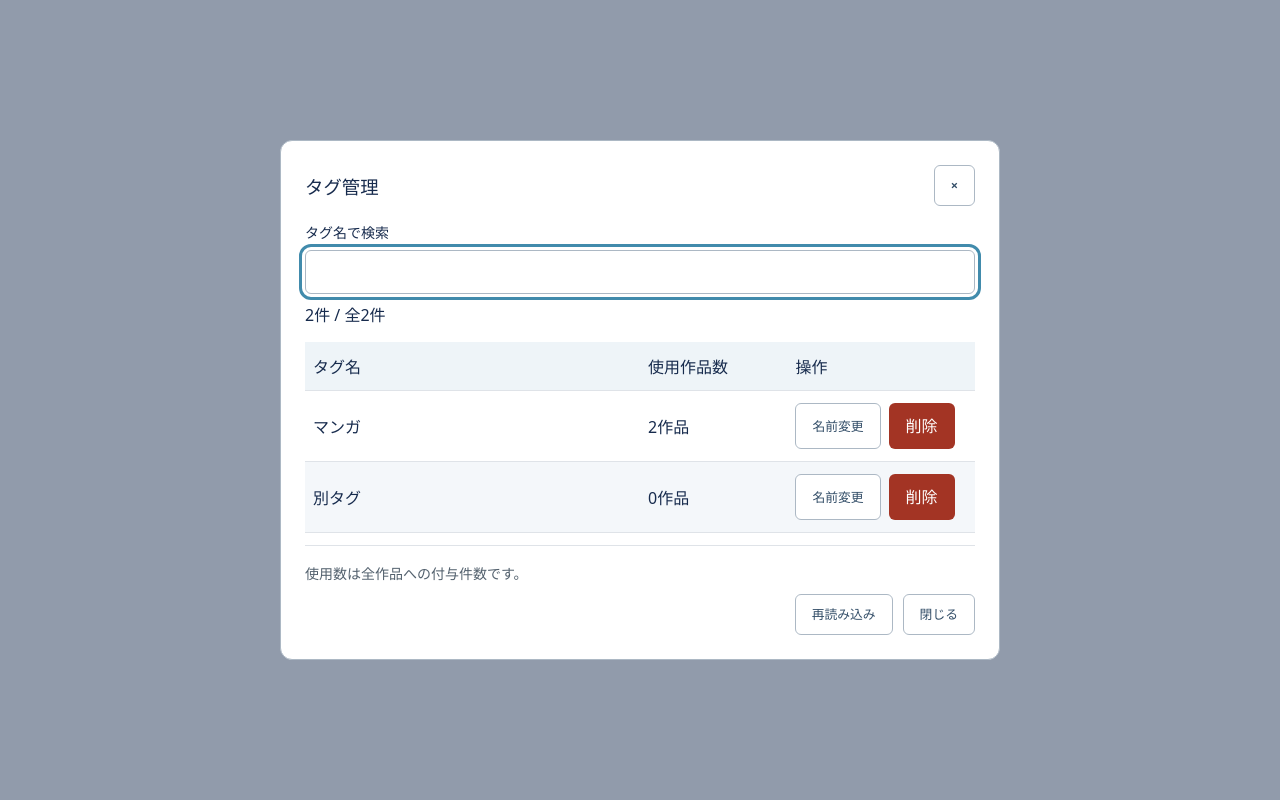
Test: 1タグずつ編集し、確認IDを丸めず送り、成功後は検索を保ち対象外なら検索へ戻す
Expected: the button with aria-label "「マンガ」の名前変更" is shown, [795,403,881,449]
Type "ﾏﾝｶﾞ" into the search field. click: (640, 272)
box: [305,250,975,294]
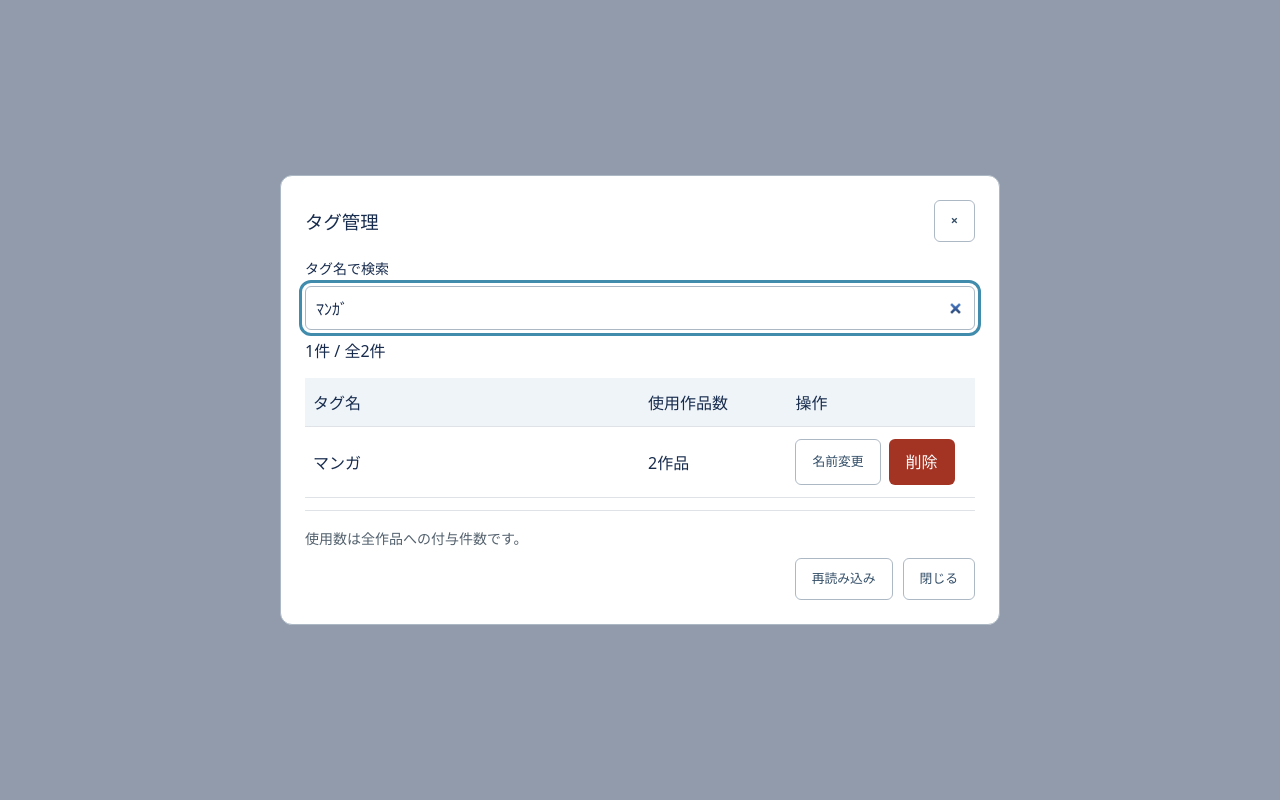
Click the button with aria-label "「マンガ」の名前変更". click: (838, 462)
box: [795,439,881,485]
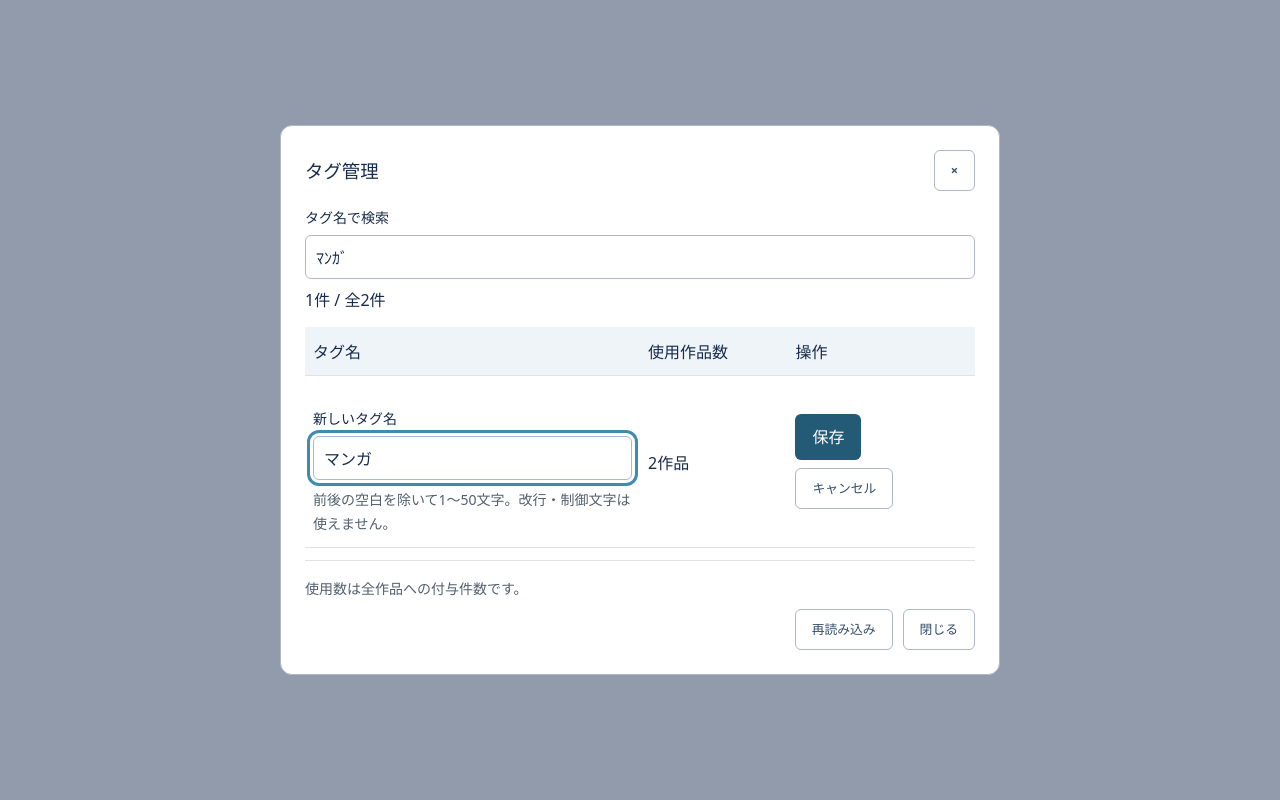
Replace the text in the field labelled "新しいタグ名" with " 新しいタグ ". click: (472, 458)
box: [313,436,632,480]
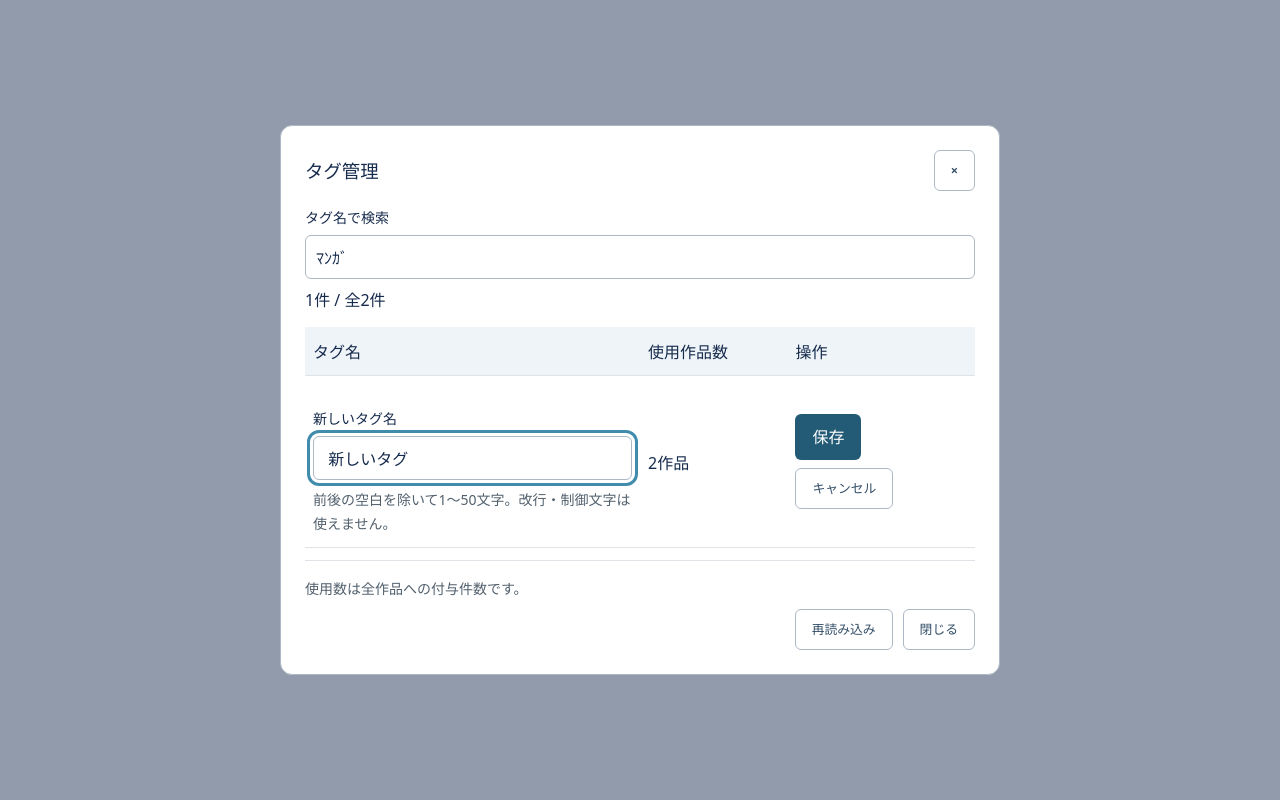
Expected: the search field is disabled, [305,235,975,279]
Click the button "保存". click: (828, 437)
box: [795,414,861,460]
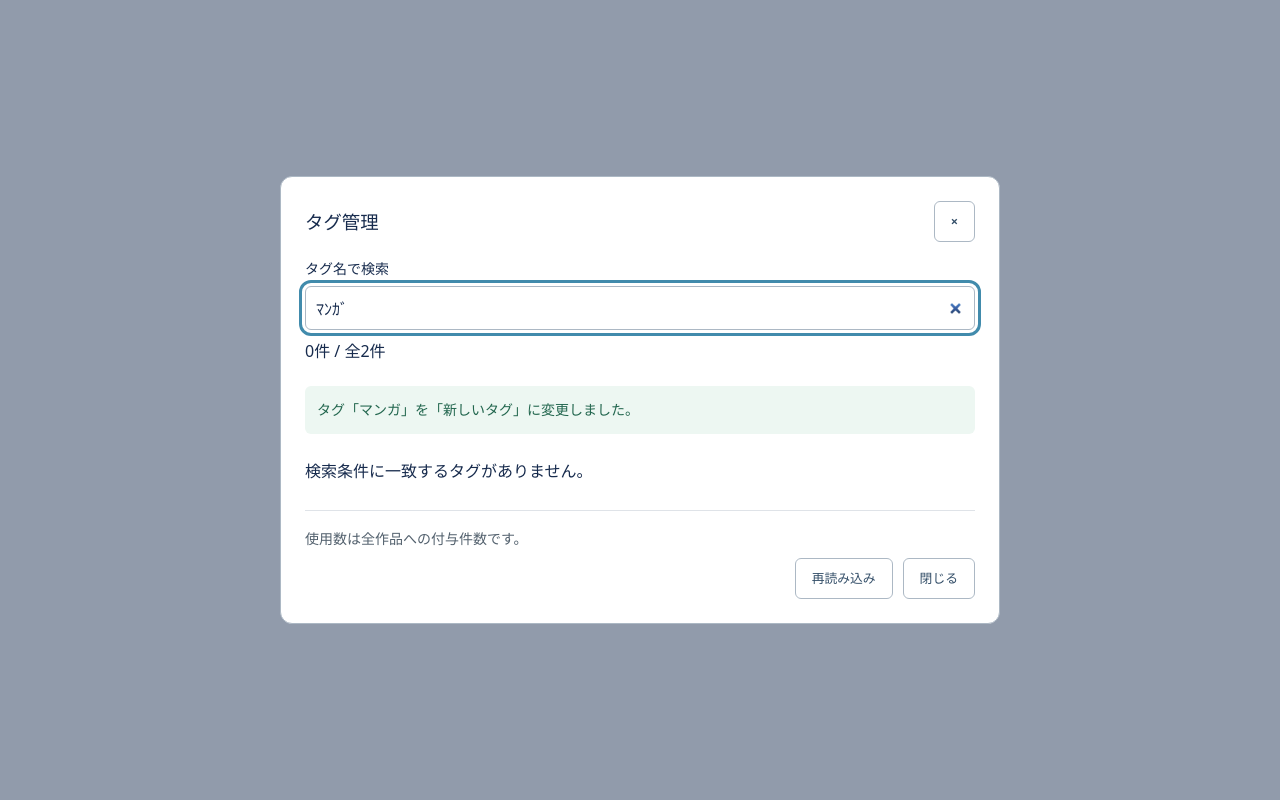
Expected: the text "検索条件に一致するタグがありません。" is shown, [305,460,592,482]
